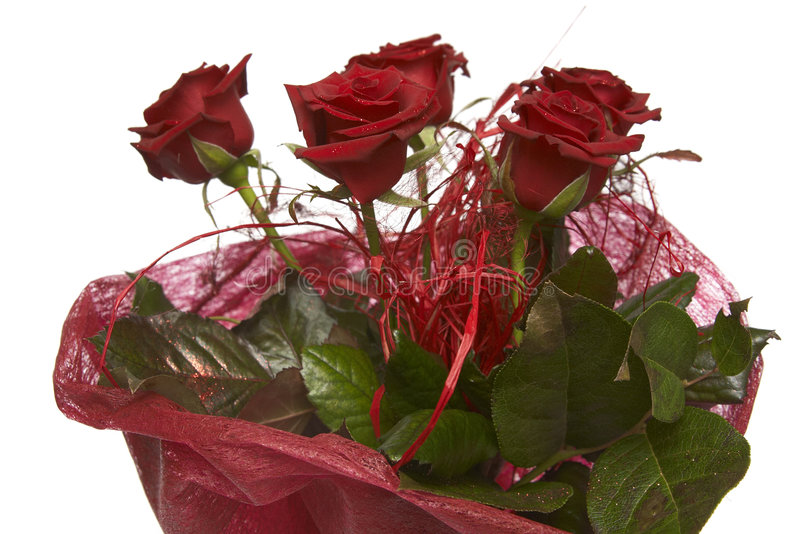RedRose: (292, 14, 480, 185), (104, 46, 280, 206), (507, 51, 658, 234)
